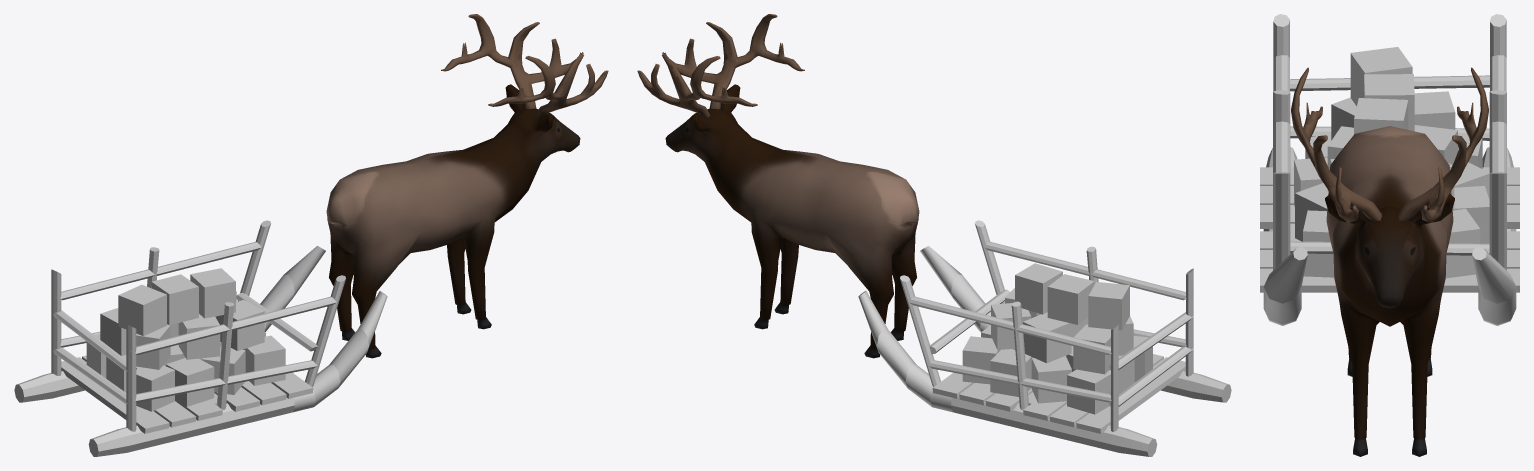
Rendered from sleigh.fbx.
3 views of the same model, side by side, from view 1: azimuth 30°, elevation 25°; view 2: azimuth 150°, elevation 25°; view 3: azimuth 270°, elevation 25° (orthographic). The views are drawn at different scales.
Parts seen in each view (by area): view 1: Elk.001, Elk, side_part, side_part.001, Cube.012, sticks.008, sticks.010, plank.006, sticks.009, Cube.014, Cube.013, Cube.005 (+18 smaller); view 2: Elk.001, Elk, side_part.001, side_part, sticks.008, Cube.013, sticks.010, Cube.012, plank.006, sticks.007, Cube.014, Cube.016 (+16 smaller); view 3: Elk, Elk.001, side_part.001, side_part, Cube.012, Cube.014, sticks.001, sticks.002, sticks.011, plank.002, Cube.013, Cube.006 (+23 smaller).
Part boxes in pixels (box(x1,y1,x2,y2)): Elk.001: box(326, 14, 606, 358); Elk: box(346, 14, 608, 356); side_part: box(88, 291, 387, 456); side_part.001: box(14, 246, 325, 402); Cube.012: box(118, 284, 166, 336); sticks.008: box(60, 241, 261, 300); sticks.010: box(135, 296, 336, 354); plank.006: box(61, 357, 169, 433); sticks.009: box(135, 360, 317, 402); Cube.014: box(190, 268, 235, 318); Cube.013: box(151, 274, 198, 325); Cube.005: box(166, 358, 214, 406); Elk.001: box(639, 14, 919, 358); Elk: box(637, 14, 899, 356); side_part.001: box(858, 291, 1157, 456); side_part: box(920, 246, 1231, 402); sticks.008: box(909, 296, 1111, 354); Cube.013: box(1047, 274, 1094, 324); sticks.010: box(984, 241, 1186, 300); Cube.012: box(1088, 282, 1129, 330); plank.006: box(1076, 357, 1185, 433); sticks.007: box(928, 360, 1111, 402); Cube.014: box(1015, 263, 1062, 314); Cube.016: box(1023, 312, 1071, 363); Elk: box(1291, 69, 1488, 456); Elk.001: box(1291, 67, 1488, 452); side_part.001: box(1472, 147, 1516, 325); side_part: box(1263, 147, 1307, 325); Cube.012: box(1350, 47, 1412, 106); Cube.014: box(1354, 98, 1408, 134); sticks.001: box(1273, 172, 1290, 270); sticks.002: box(1489, 172, 1506, 270); sticks.011: box(1290, 75, 1489, 91); plank.002: box(1260, 268, 1519, 292); Cube.013: box(1364, 74, 1414, 131); Cube.006: box(1445, 209, 1480, 278).
Bounding box in the file's own units: 240 × 426 × 831.
